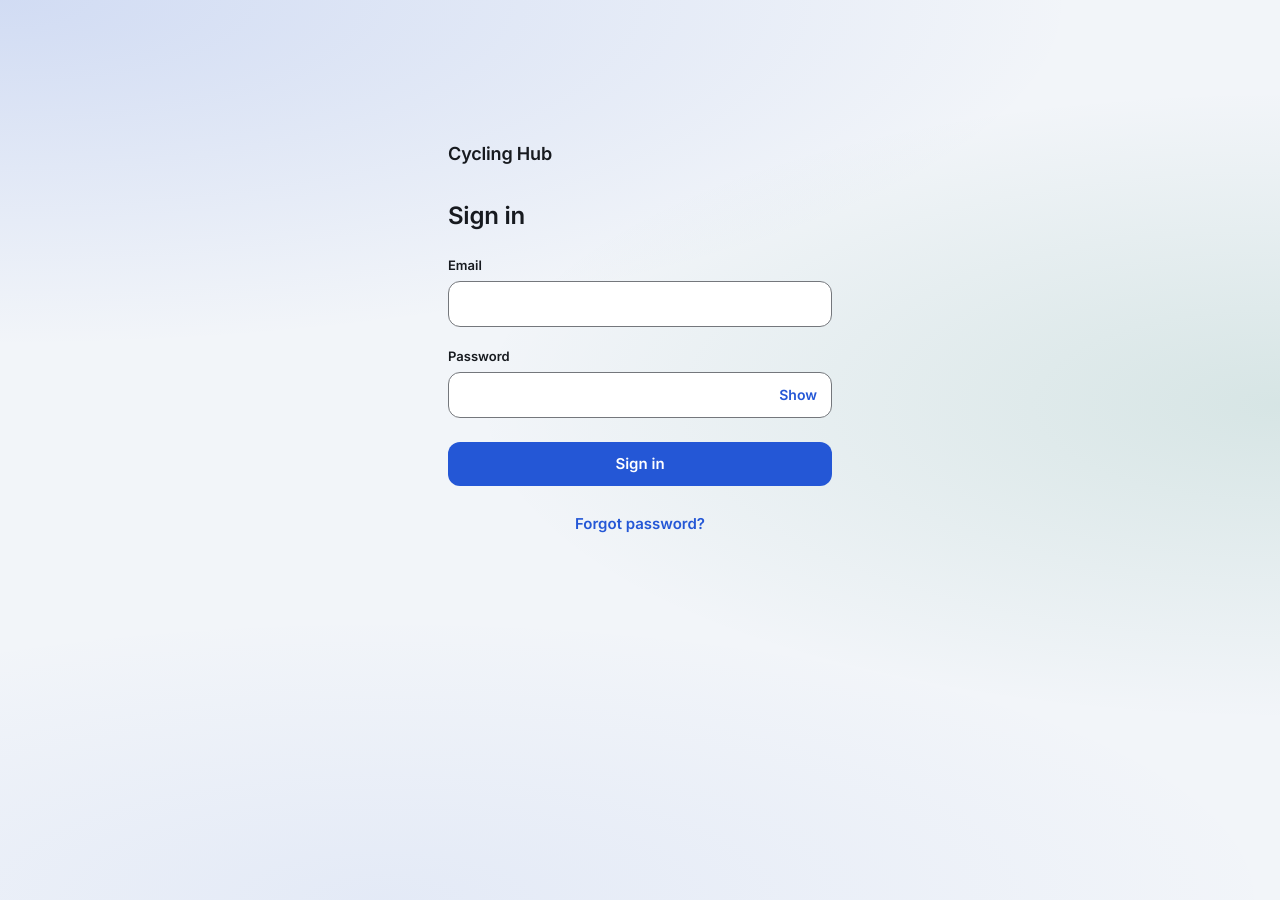
Test: SignInPage › shows the network error
Step 1. Type "rider@test.invalid" into the field labelled "Email" → (640, 304), box [449,282,831,326]
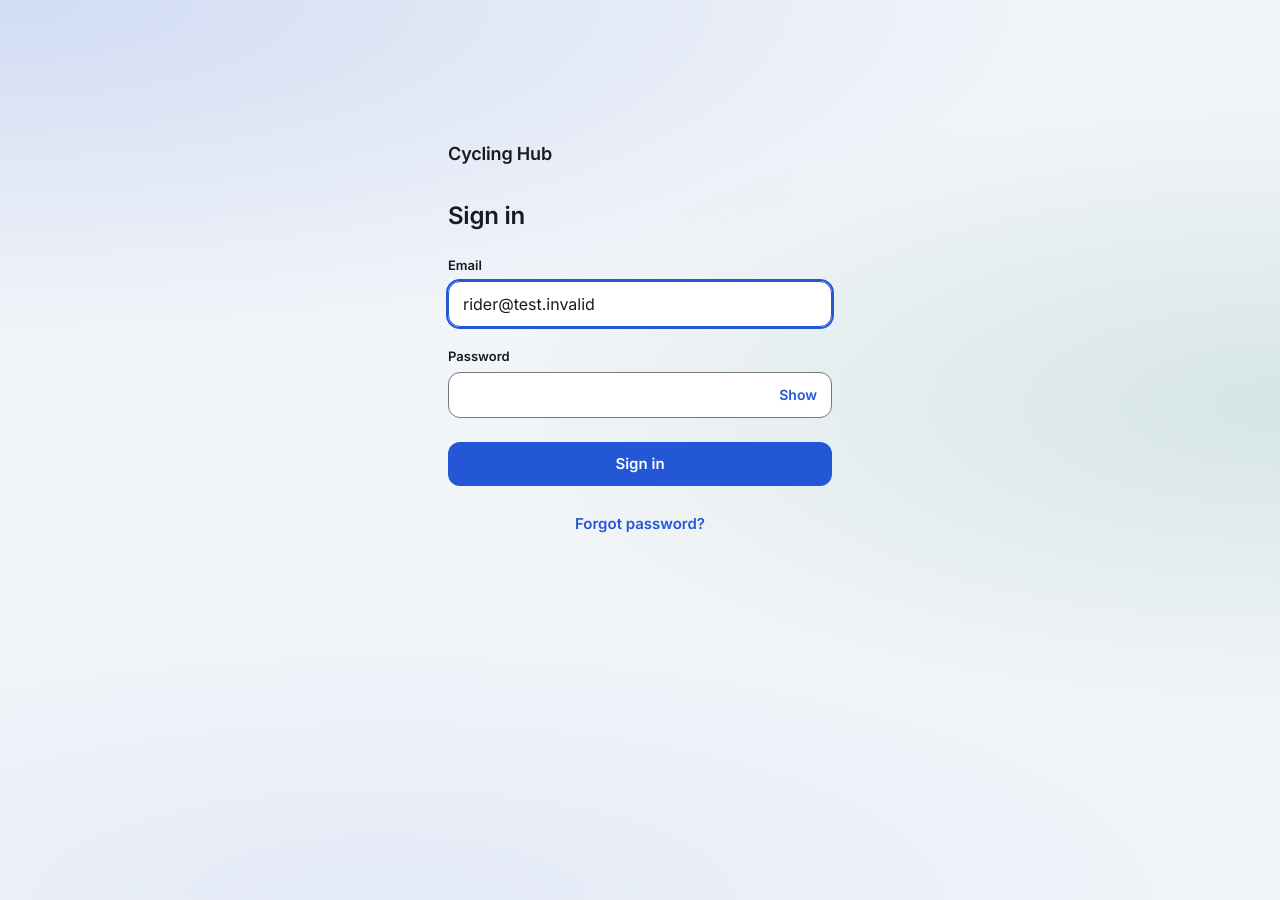
Step 2. Type "a password" into the password field labelled "Password" → (609, 395), box [449,373,769,417]
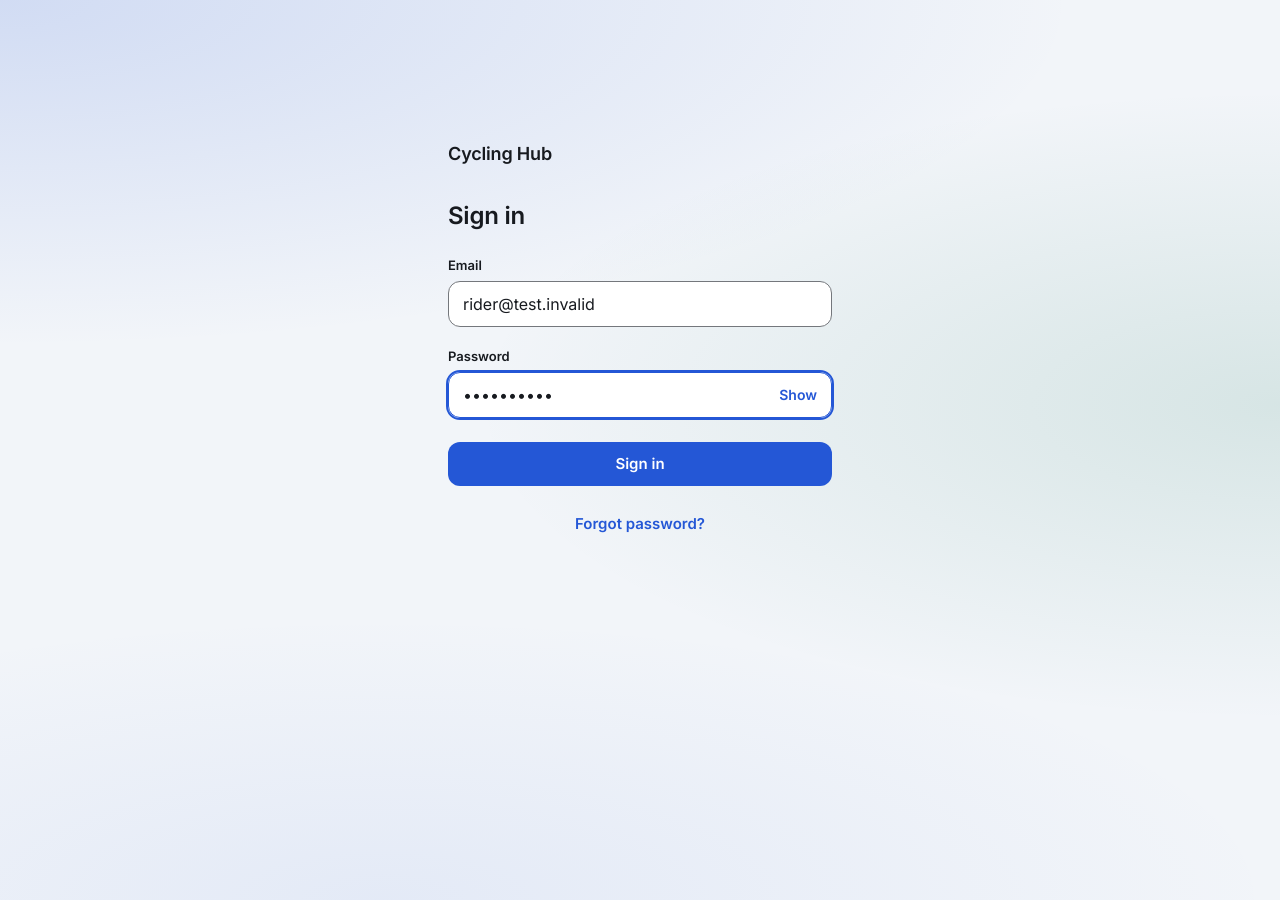
Step 3. Click the button "Sign in" → (640, 464), box [448,442,832,486]
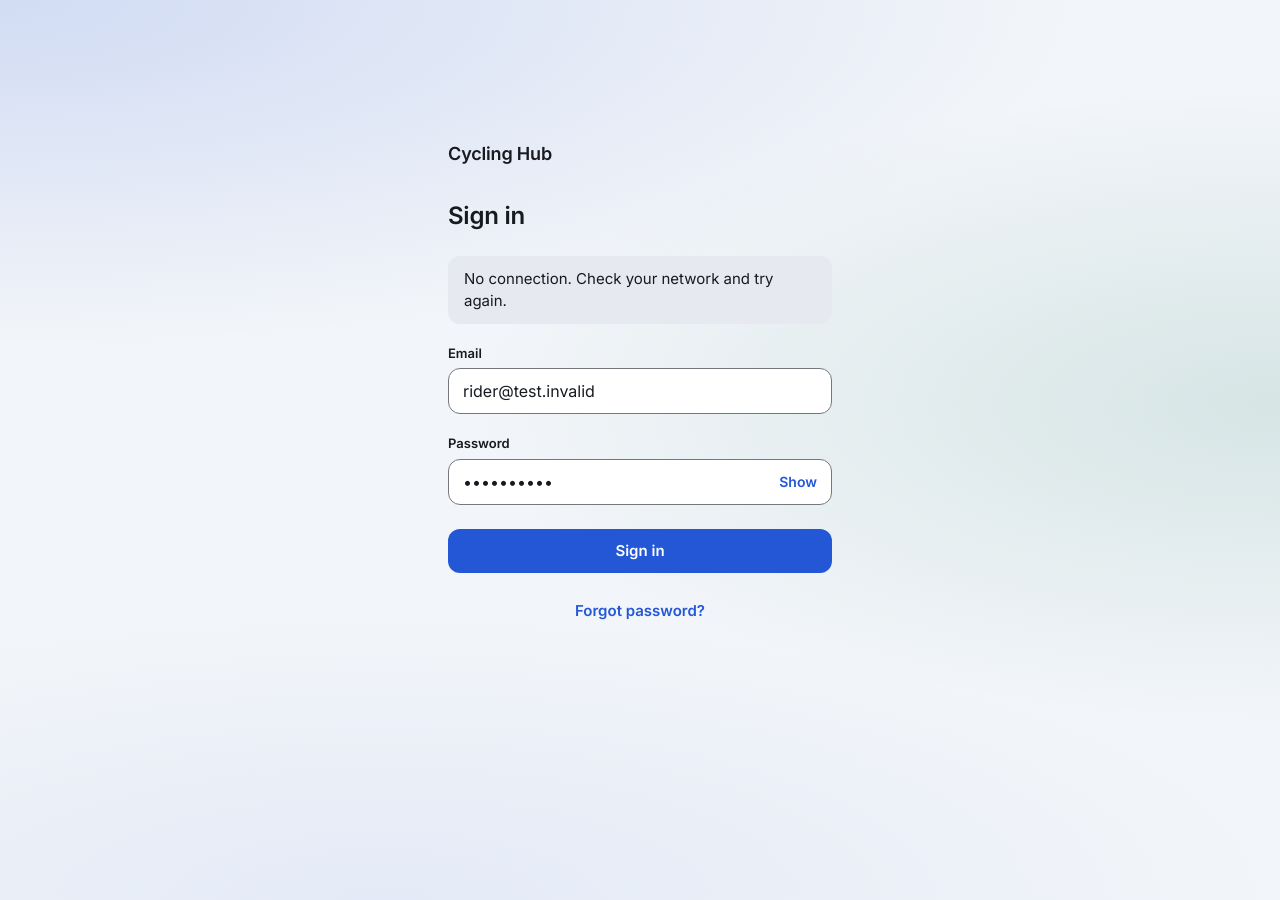
Expected: the message shows "No connection.", [464,269,774,310]
